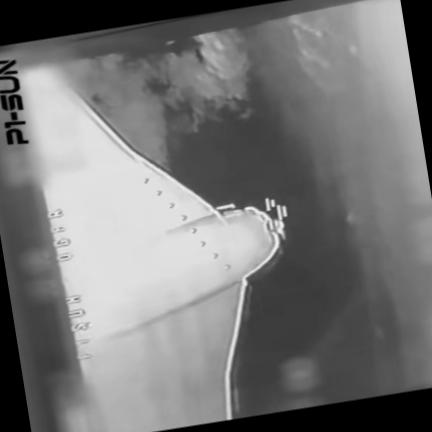Shahed: (22, 67, 280, 431)
